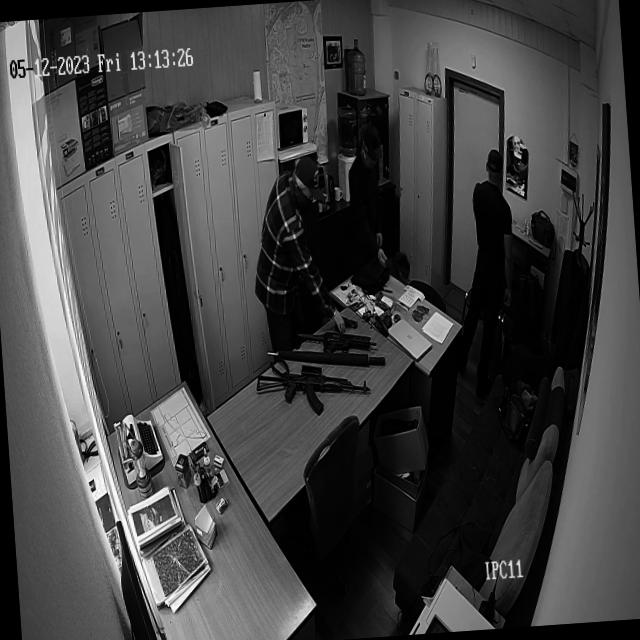gun: (255, 364, 372, 418), (294, 324, 378, 358), (344, 316, 358, 331)
person: (248, 156, 338, 316), (464, 146, 526, 378), (344, 128, 396, 255)
